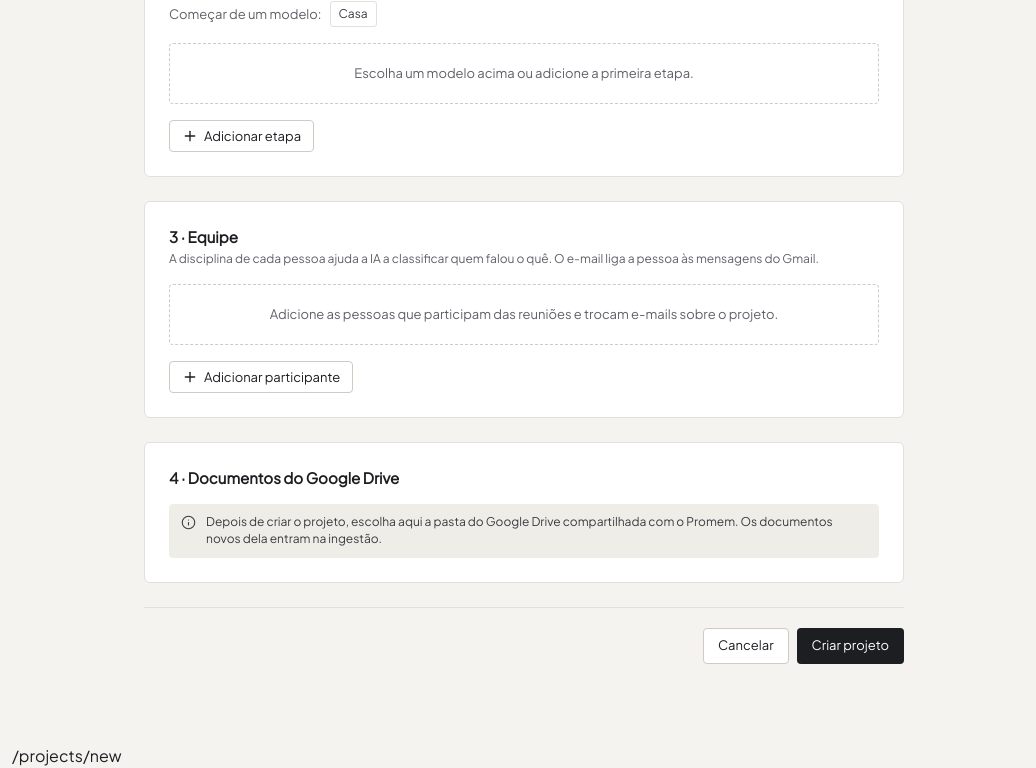
Test case: Phase 3e › Novo projeto › needs a name
The width and height of the screenshot is (1036, 768).
(page scrolled)
Click the button "Criar projeto" at (850, 646), box [797,628,904,664]
(page scrolled)
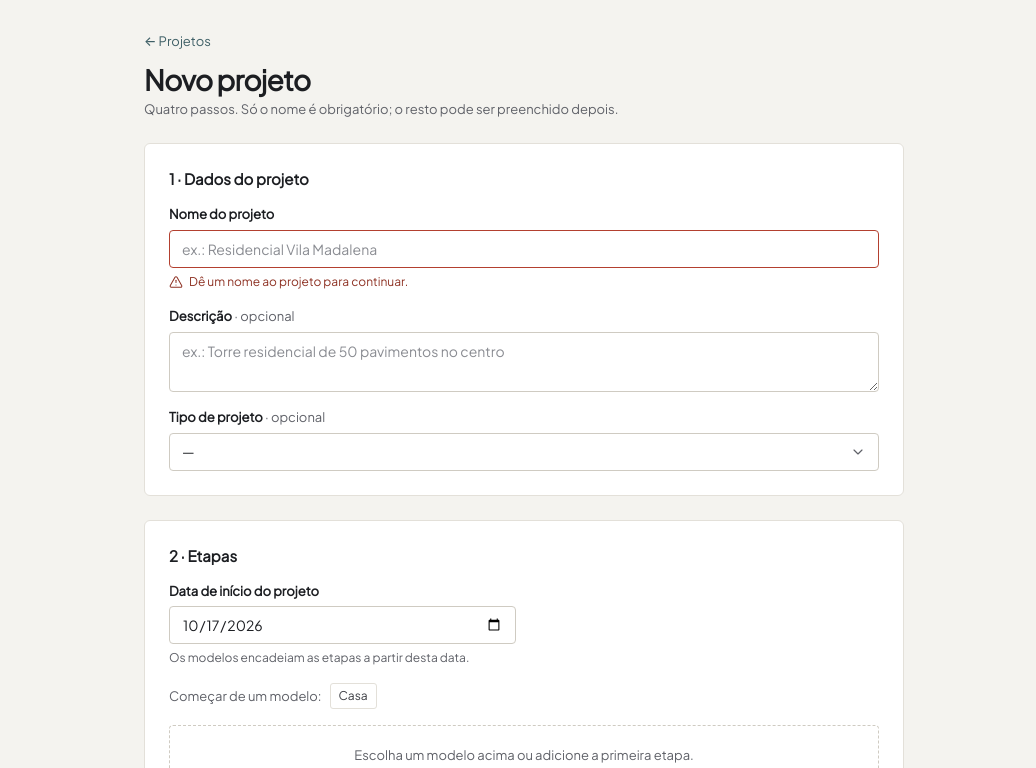
Now the text "Dê um nome ao projeto para continuar." is shown, box [189,274,408,291]
